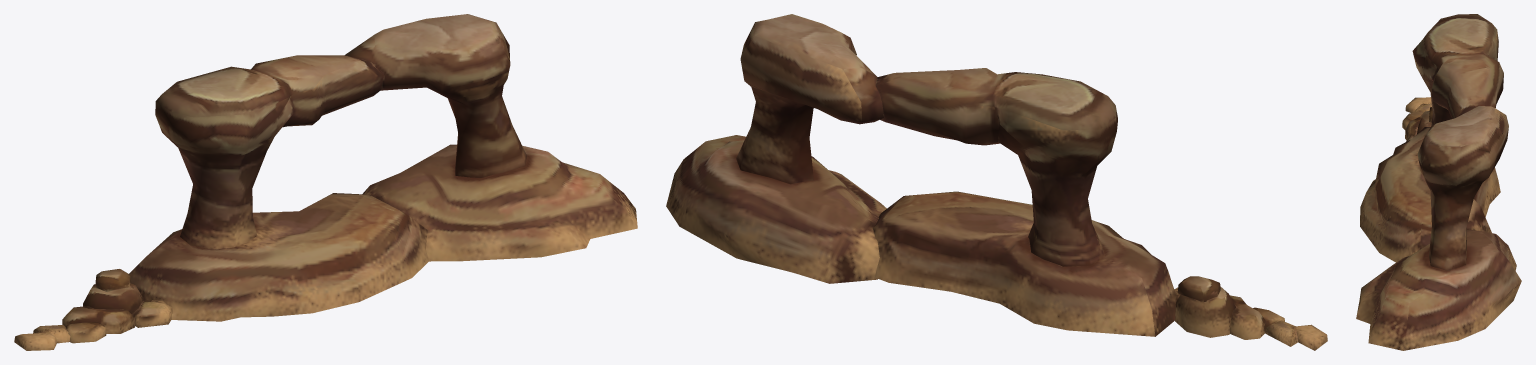
Rendered from shitou03.FBX.
3 renders of one model, left to right at view 1: azimuth 30°, elevation 25°; view 2: azimuth 150°, elevation 25°; view 3: azimuth 270°, elevation 25°, orthographic. The views are drawn at different scales.
Visible parts, largest first — view 1: shitou03; view 2: shitou03; view 3: shitou03.
Part boxes in pixels (x1,y1,x2,y2): shitou03: (14,14,637,350); shitou03: (666,14,1327,350); shitou03: (1356,14,1521,350).
Size of the model in its own units: 445 by 137 by 125.
